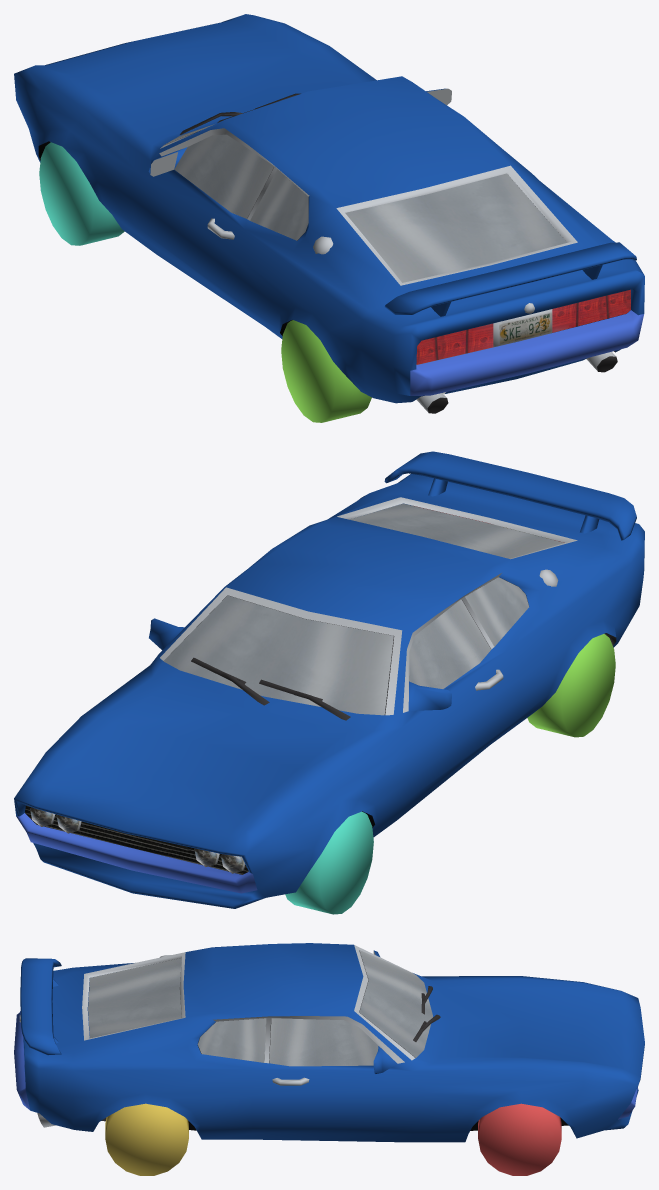
File: mustang_impala.obj
3 renders of one model, top to bottom at view 1: azimuth 30°, elevation 25°; view 2: azimuth 150°, elevation 25°; view 3: azimuth 270°, elevation 25°, orthographic. The views are drawn at different scales.
Visible parts, largest first — view 1: Chrome, Wheel_left_rear, Wheel_left_front; view 2: Chrome, Wheel_left_front, Wheel_left_rear; view 3: Chrome, Wheel_right_front, Wheel_right_rear.
Boxes of the visible parts, x1,y1,x2,y2 form: Chrome: [14, 14, 644, 413]; Wheel_left_rear: [281, 320, 371, 422]; Wheel_left_front: [39, 142, 124, 245]; Chrome: [14, 451, 644, 908]; Wheel_left_front: [285, 811, 373, 914]; Wheel_left_rear: [527, 634, 615, 737]; Chrome: [14, 943, 644, 1142]; Wheel_right_front: [478, 1103, 561, 1175]; Wheel_right_rear: [105, 1103, 188, 1175].
Bounding box in the file's own units: 23.72 × 14.57 × 55.88.
